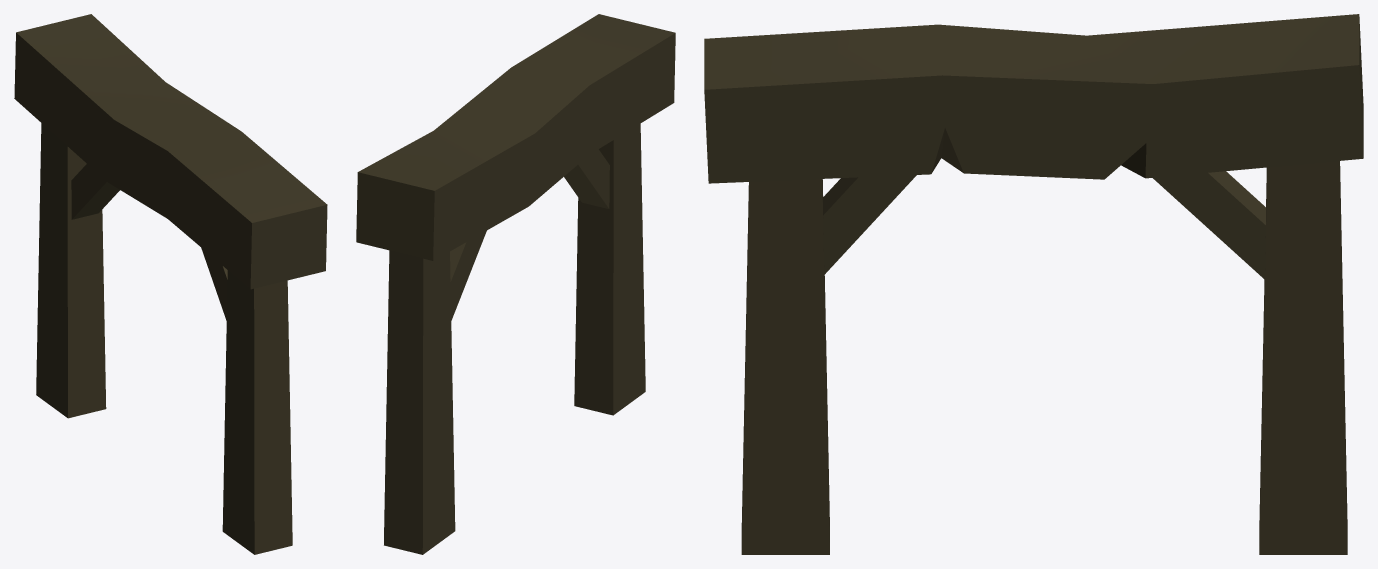
Rendered from Poutre_Asset_2.FBX.
The picture shows the model from 3 angles, left to right: view 1: azimuth 30°, elevation 25°; view 2: azimuth 150°, elevation 25°; view 3: azimuth 270°, elevation 25°; orthographic projection. The views are drawn at different scales.
Parts seen in each view (by area): view 1: Box360; view 2: Box360; view 3: Box360.
Boxes of the visible parts, x1=… form: Box360: x1=14, y1=14, x2=327, y2=554; Box360: x1=356, y1=14, x2=675, y2=554; Box360: x1=704, y1=14, x2=1363, y2=554.
Bounding box in the file's own units: 0.7 × 3.23 × 3.82.
